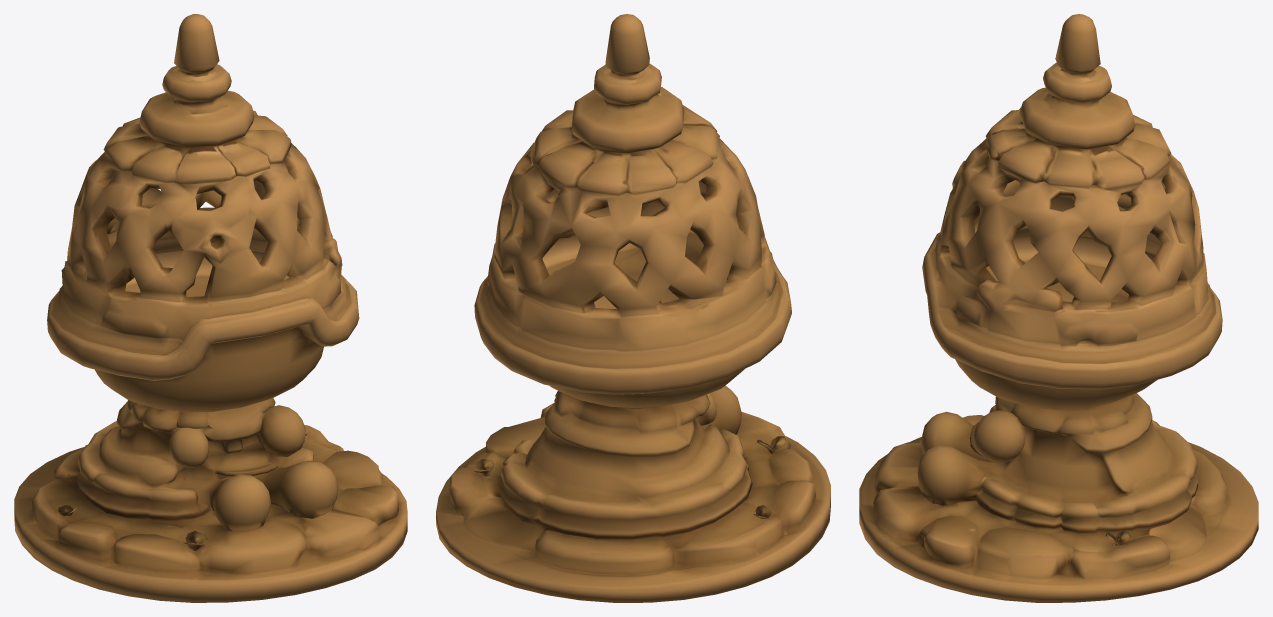
Rendered from indo-envi-1.glb.
3 views of the same model, side by side, from view 1: azimuth 30°, elevation 25°; view 2: azimuth 150°, elevation 25°; view 3: azimuth 270°, elevation 25° (orthographic).
Visible parts, largest first — view 1: tripo_node_c9442d7d-77fa-4098-b4c3-ff00791d6fc4; view 2: tripo_node_c9442d7d-77fa-4098-b4c3-ff00791d6fc4; view 3: tripo_node_c9442d7d-77fa-4098-b4c3-ff00791d6fc4.
Part boxes in pixels (x1,y1,x2,y2): tripo_node_c9442d7d-77fa-4098-b4c3-ff00791d6fc4: (14,14,407,602); tripo_node_c9442d7d-77fa-4098-b4c3-ff00791d6fc4: (436,14,830,602); tripo_node_c9442d7d-77fa-4098-b4c3-ff00791d6fc4: (859,14,1258,602).
Bounding box in the file's own units: 0.6909 × 0.9995 × 0.7173.
Materials: 1 (1 with a texture image).
